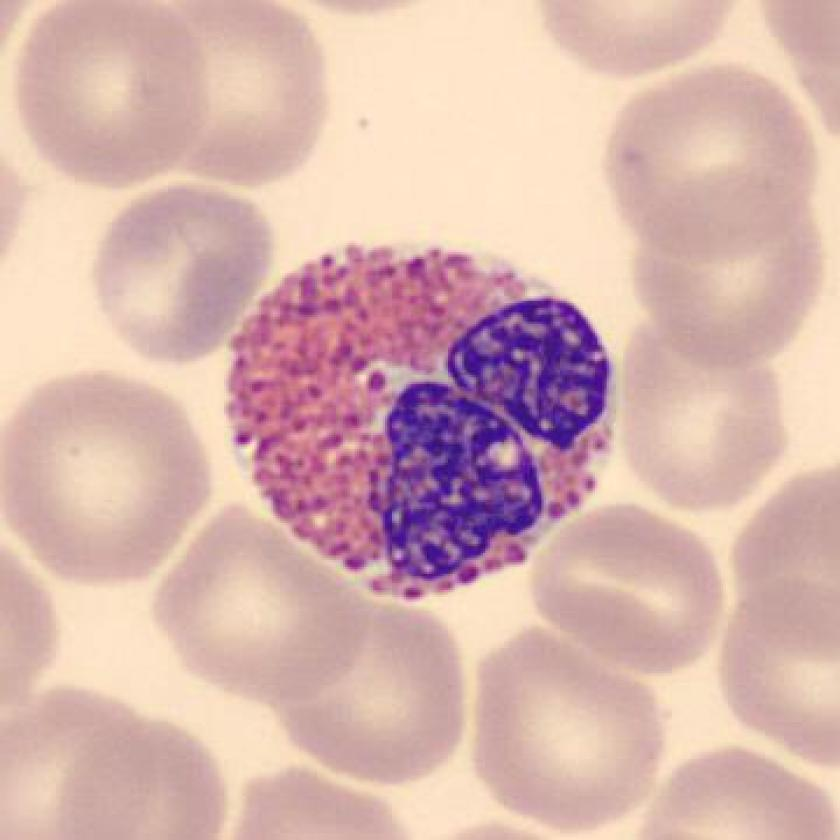eosinophil: (207, 233, 634, 615)
